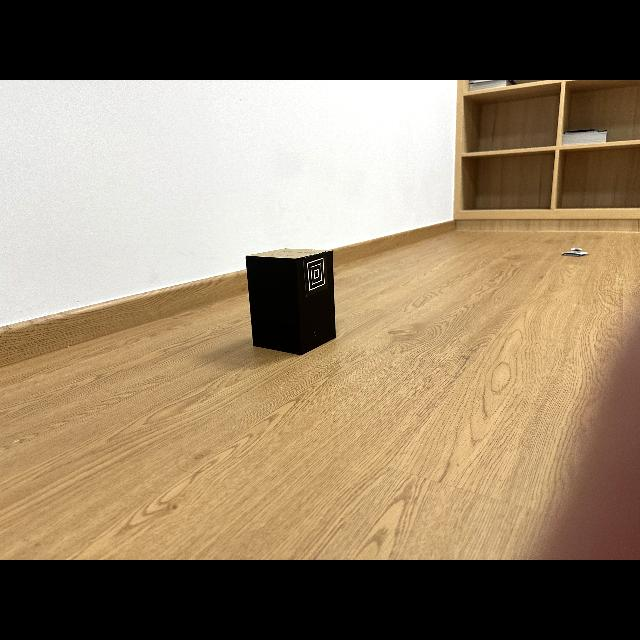BULLSEYE: (303, 251, 328, 297)
